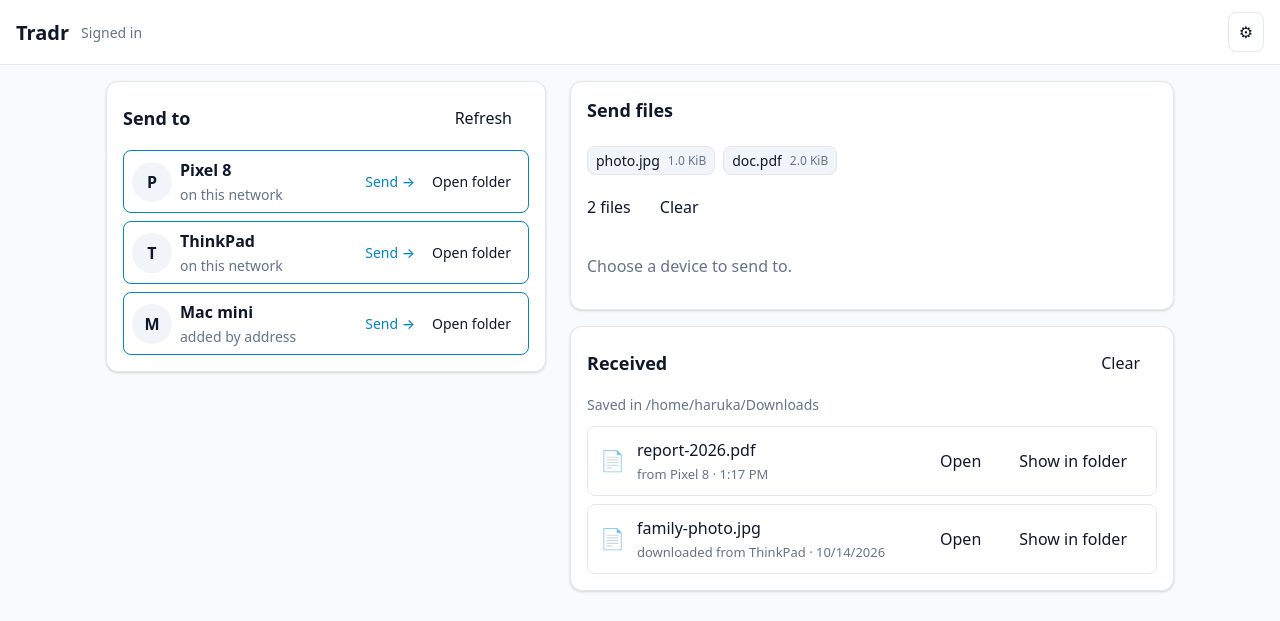
Test: App component › sends staged files when a device tile is tapped and displays Sent ✓ on resolution
expect the heading "Send to" is shown: met, box [123,106,190,130]
Click the text "Pixel 8". click: (206, 170)
box: [180,159,232,181]
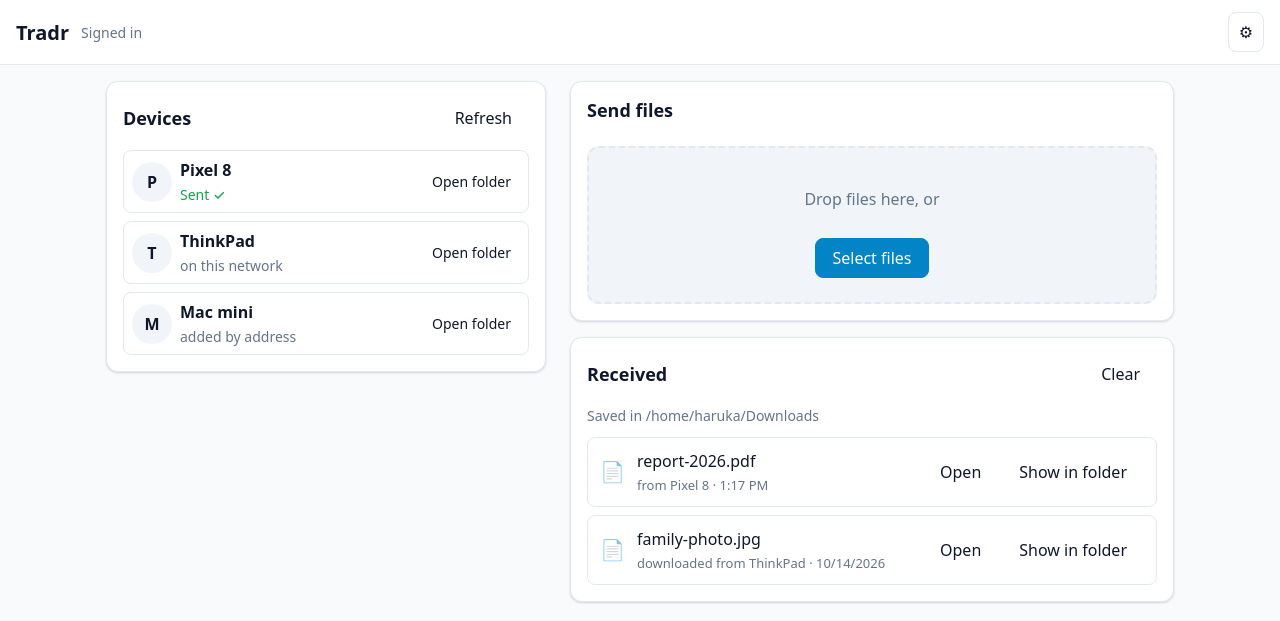
expect the text "Sent ✓" is shown: met, box [180,185,225,204]
expect the button "Select files" is shown: met, box [816,238,928,278]
